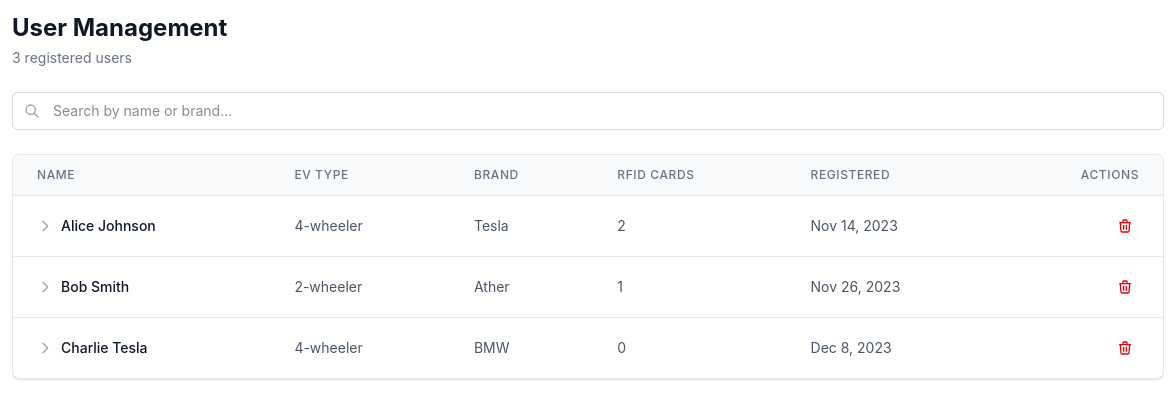
Test case: UserManagementPage › Search filtering › filters users by brand in real time
Expected: the text "Alice Johnson" is shown, [37,217,156,234]
In the field with placeholder "Search by name or brand...": x=588, y=111 [12,92,1164,130], type "ather"
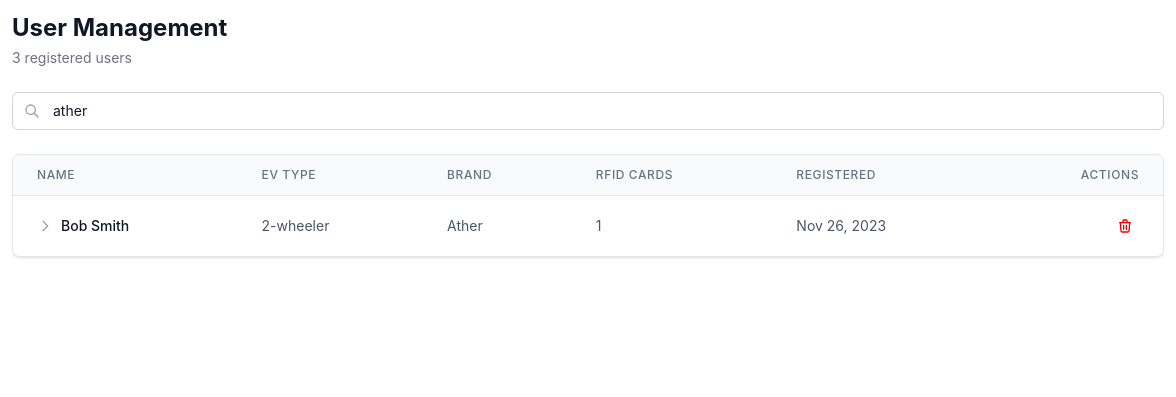
Expected: the text "Bob Smith" is shown, [37,217,129,234]
Expected: the text "Alice Johnson" is gone
Expected: the text "Charlie Tesla" is gone
